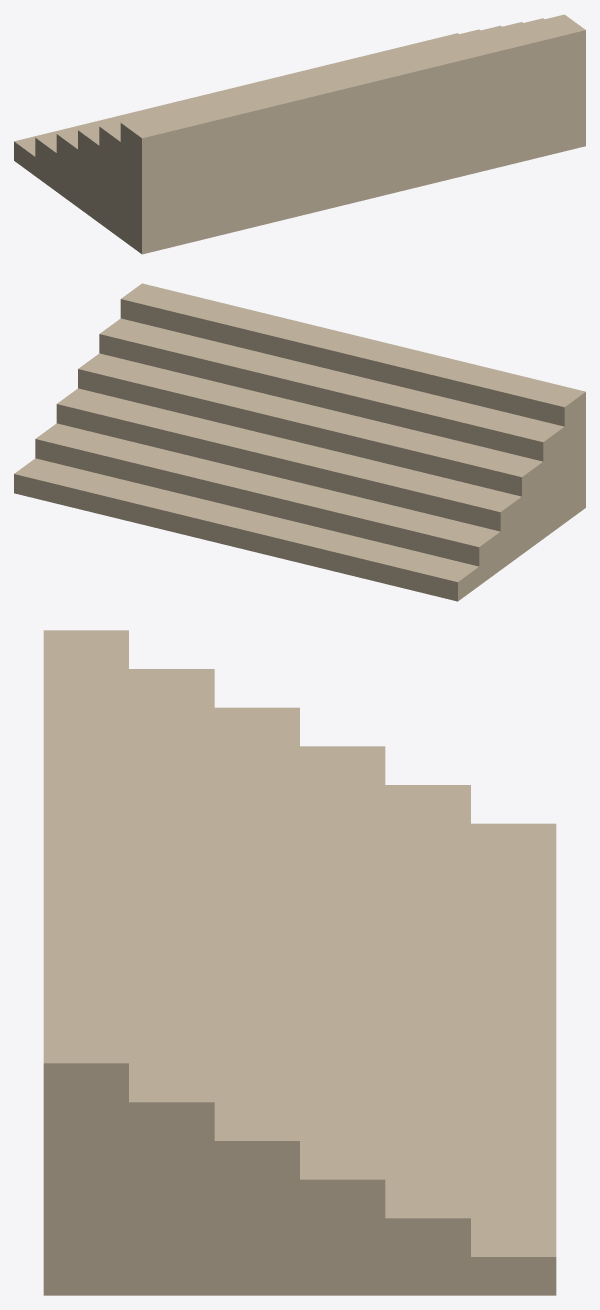
Rendered from stairs_stone_short.fbx.
3 renders of one model, top to bottom at view 1: azimuth 30°, elevation 25°; view 2: azimuth 150°, elevation 25°; view 3: azimuth 270°, elevation 25°, orthographic. The views are drawn at different scales.
Visible parts, largest first — view 1: stairs_stone_short; view 2: stairs_stone_short; view 3: stairs_stone_short.
Part boxes in pixels (<box>): stairs_stone_short: <box>14,14,585,254</box>; stairs_stone_short: <box>14,283,585,601</box>; stairs_stone_short: <box>43,630,556,1295</box>.
Size of the model in its own units: 4 by 1 by 2.
